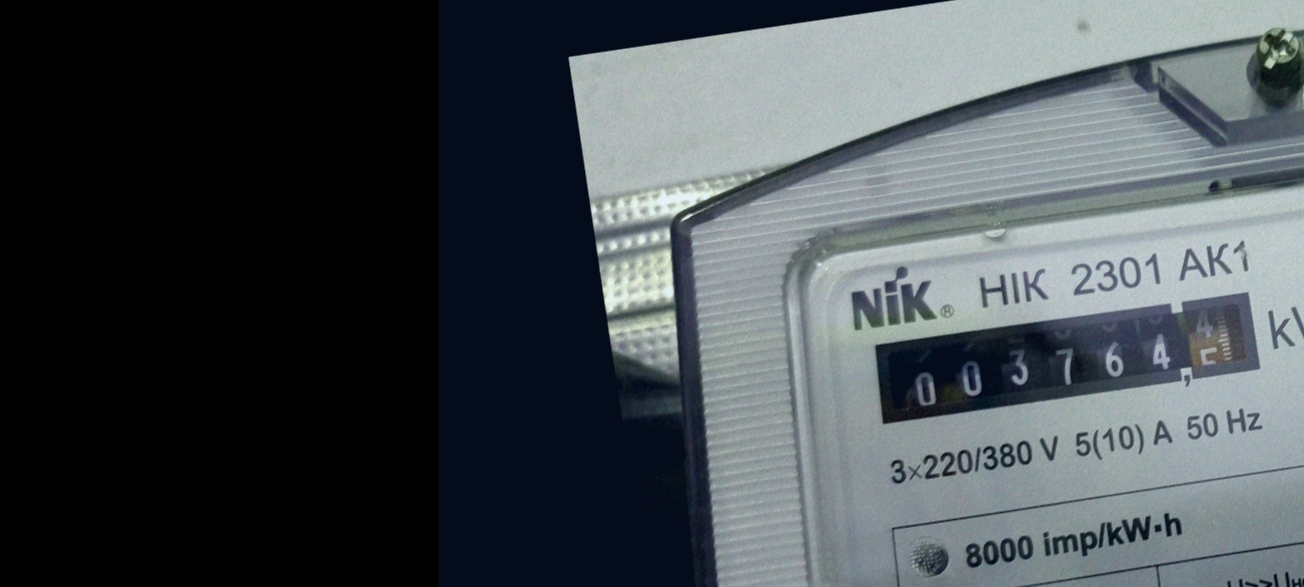0: (911, 368, 940, 409), (958, 357, 985, 399)
3: (1005, 346, 1033, 389)
4: (1149, 331, 1173, 373), (1192, 306, 1218, 341)
5: (1197, 344, 1222, 369)
6: (1102, 339, 1127, 380)
7: (1053, 343, 1082, 388)
screen: (856, 273, 1278, 441)
